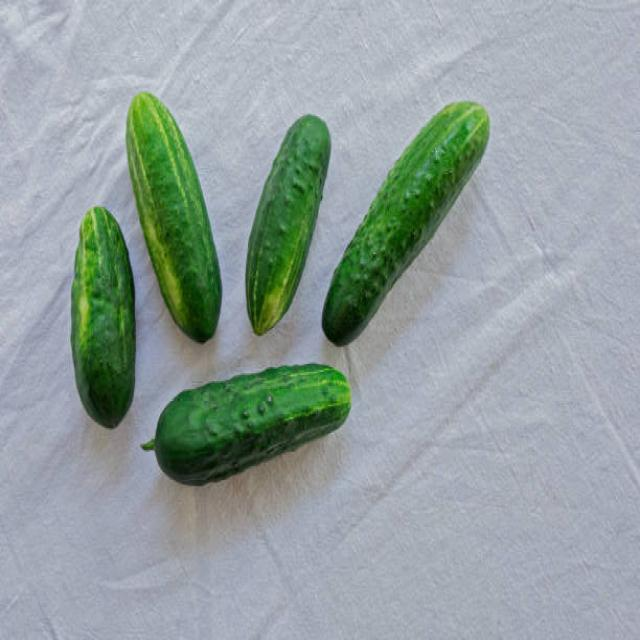cucumber: (320, 99, 490, 348), (125, 89, 224, 342), (156, 361, 350, 486), (246, 114, 332, 337), (71, 204, 137, 427)
